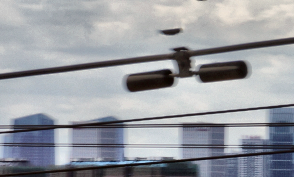damper: (119, 45, 254, 94)
